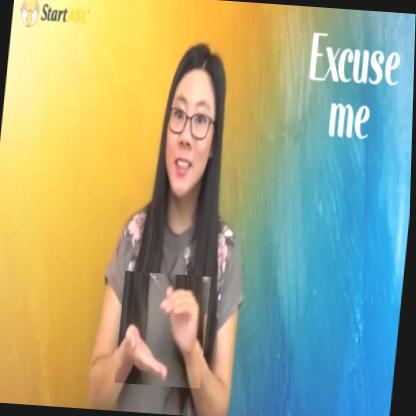ExcuseMe: (116, 272, 213, 388)
